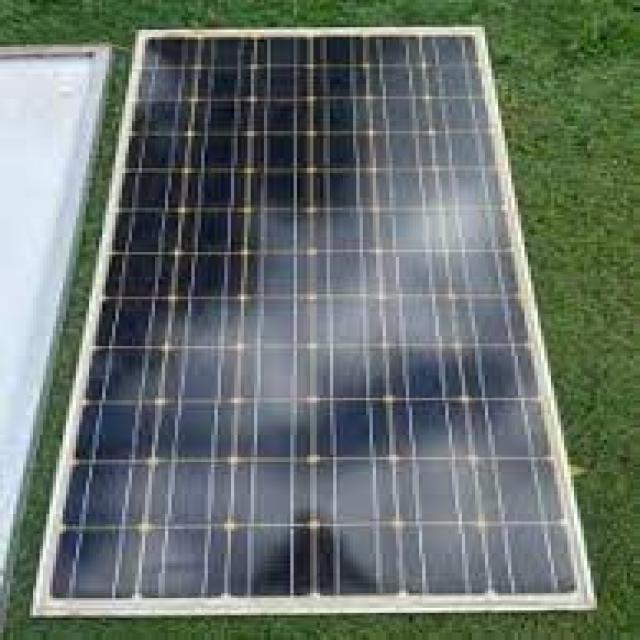no faulty: (105, 38, 546, 623)
